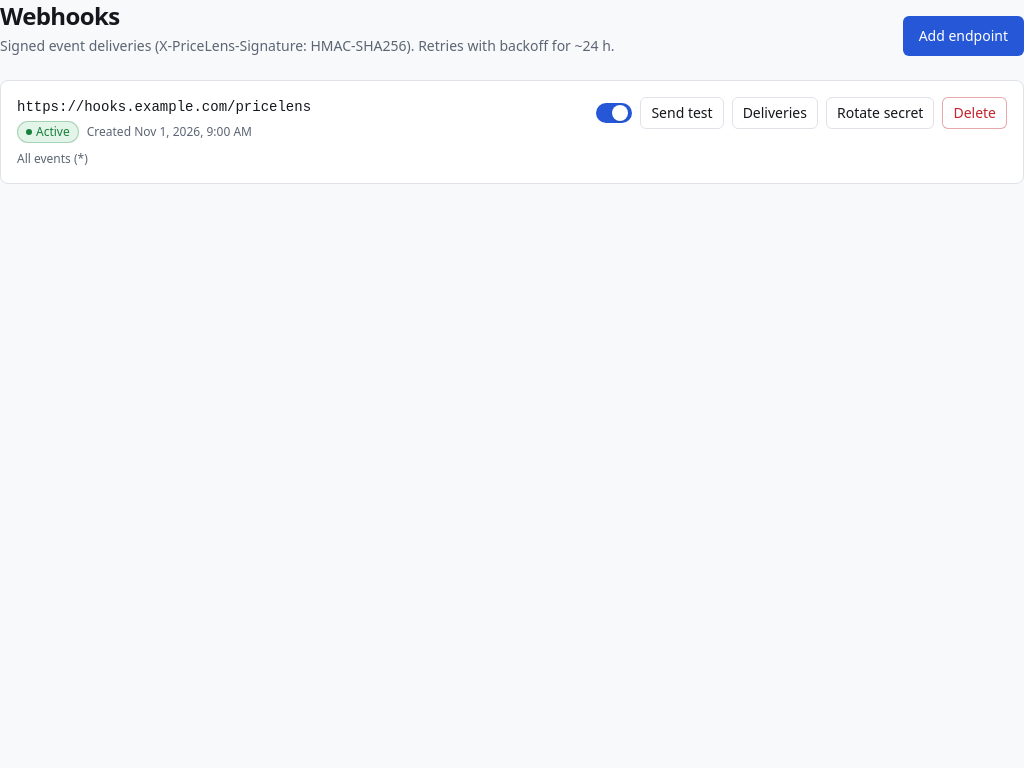
Scenario: WebhooksView › requests payloads and expands them in the delivery log
This screenshot has width=1024, height=768.
Later steps or results of the test are not shown.
Click the button "Deliveries": (775, 113) left=732, top=97, right=818, bottom=129
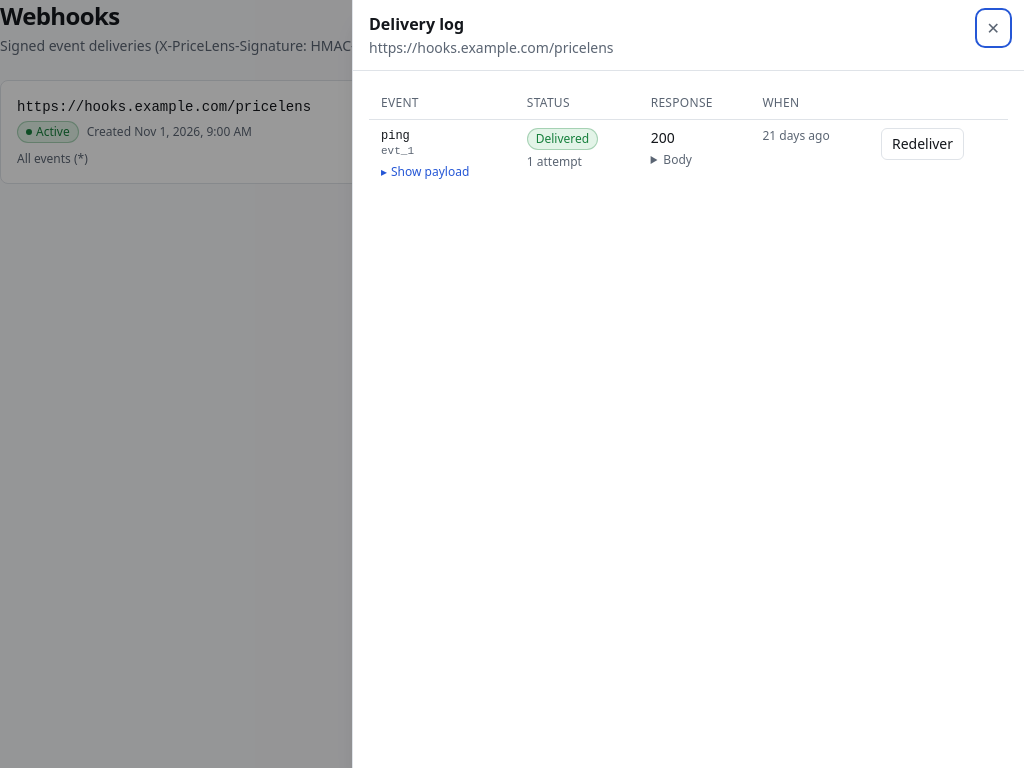
Click the button "▸ Show payload": (425, 172) left=381, top=164, right=469, bottom=180
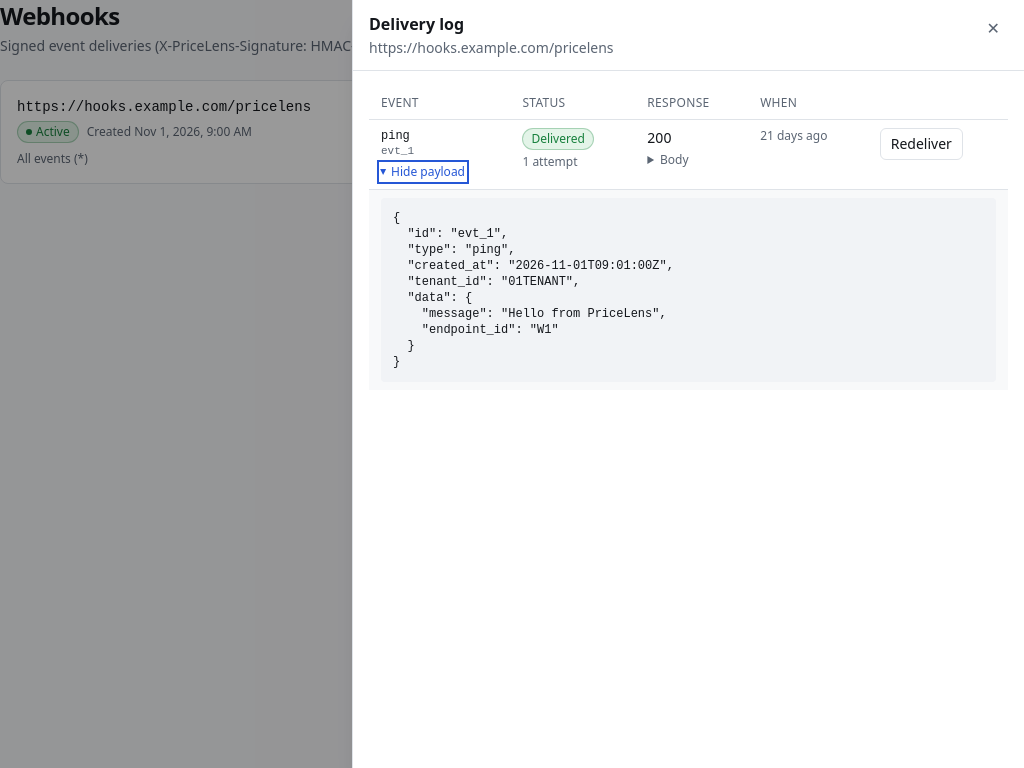
Now the button "▸ Hide payload" is expanded, box left=381, top=164, right=465, bottom=180
Now the text named "Payload for ping" shows "\"message\": \"Hello from PriceLens\"", box left=393, top=211, right=674, bottom=369
